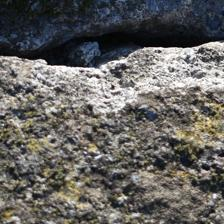Crack: (6, 19, 217, 82)
